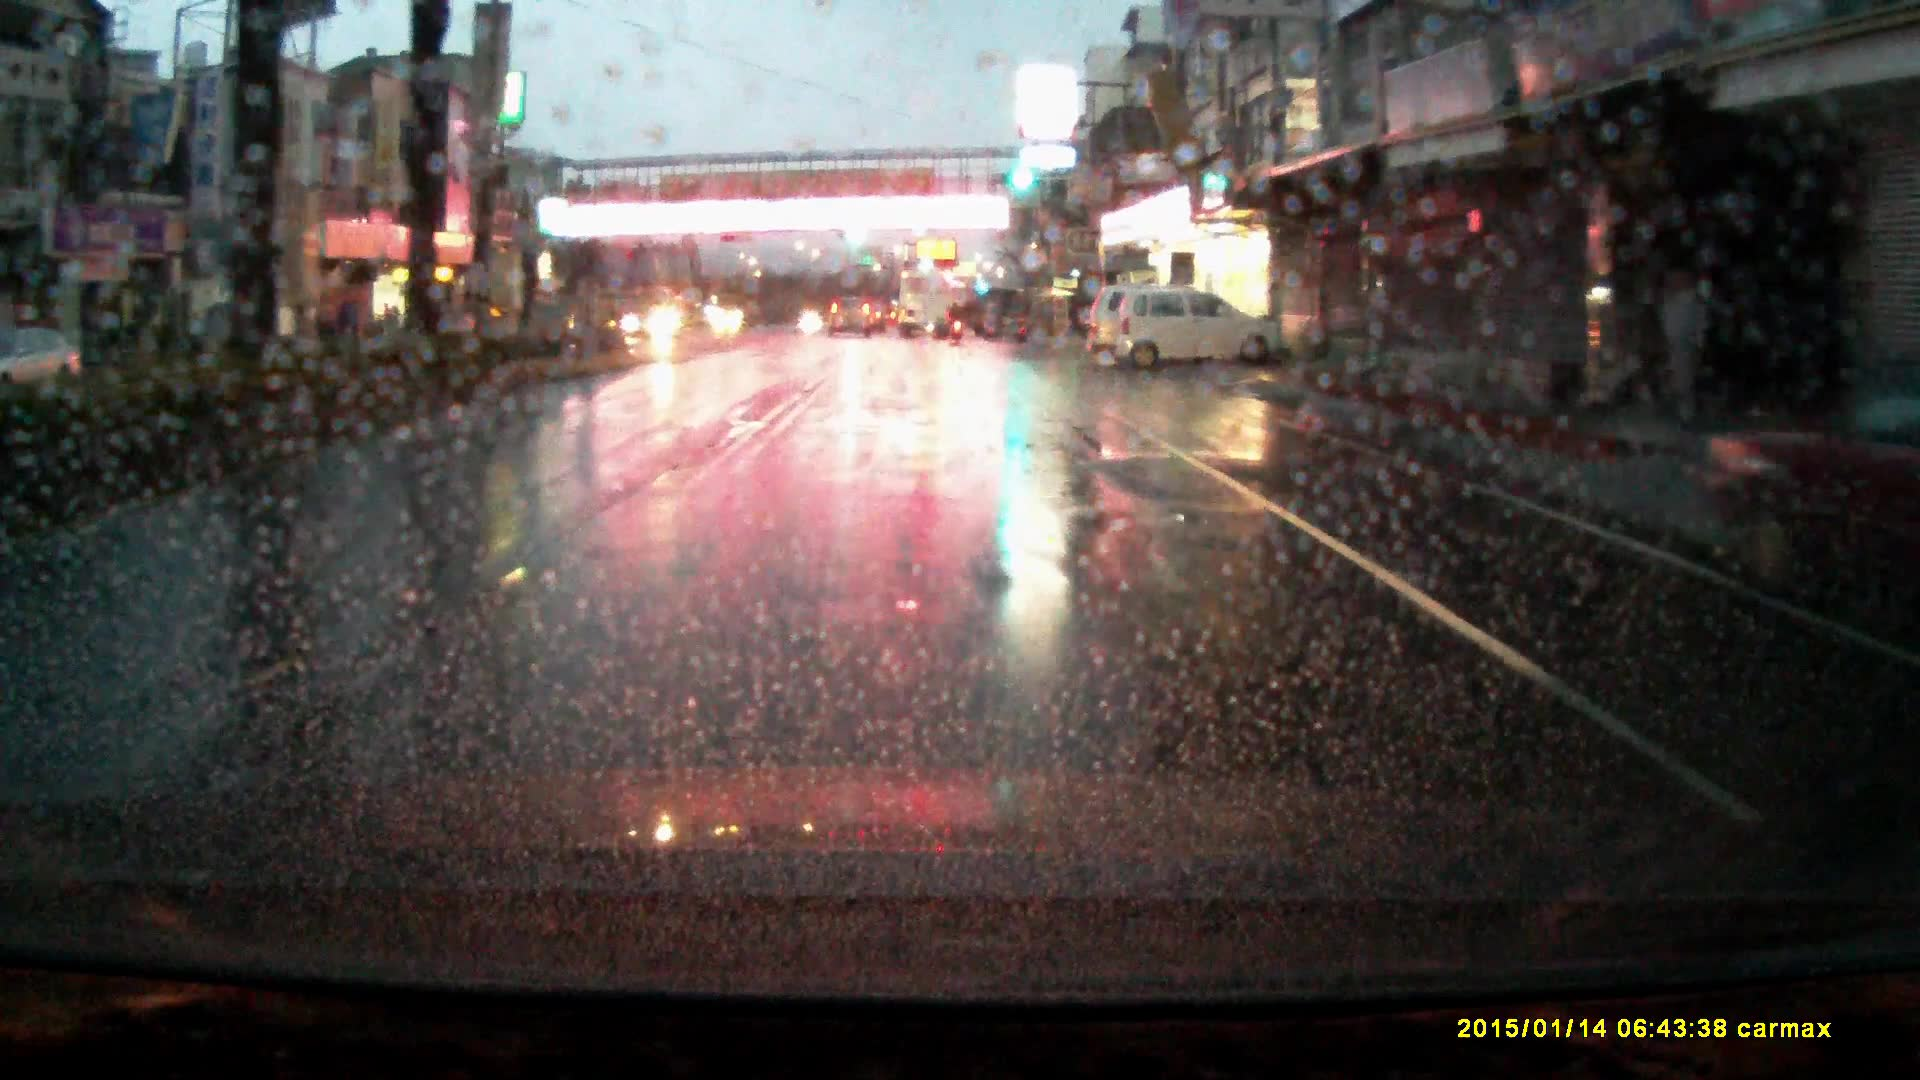rider: (948, 302, 968, 346)
vehicle: (1701, 371, 1920, 591), (1113, 288, 1285, 371), (190, 288, 299, 364), (1086, 289, 1184, 365), (1, 326, 88, 400), (620, 291, 693, 345), (899, 274, 951, 343), (974, 290, 1031, 343), (829, 300, 874, 344)
